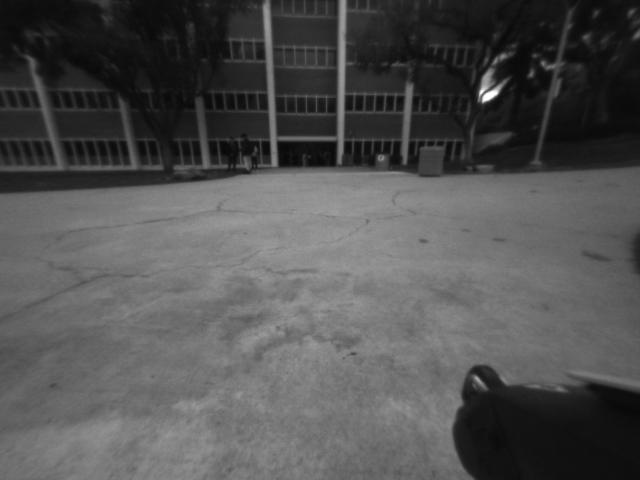trashcan: (417, 144, 447, 178), (374, 147, 394, 171)
